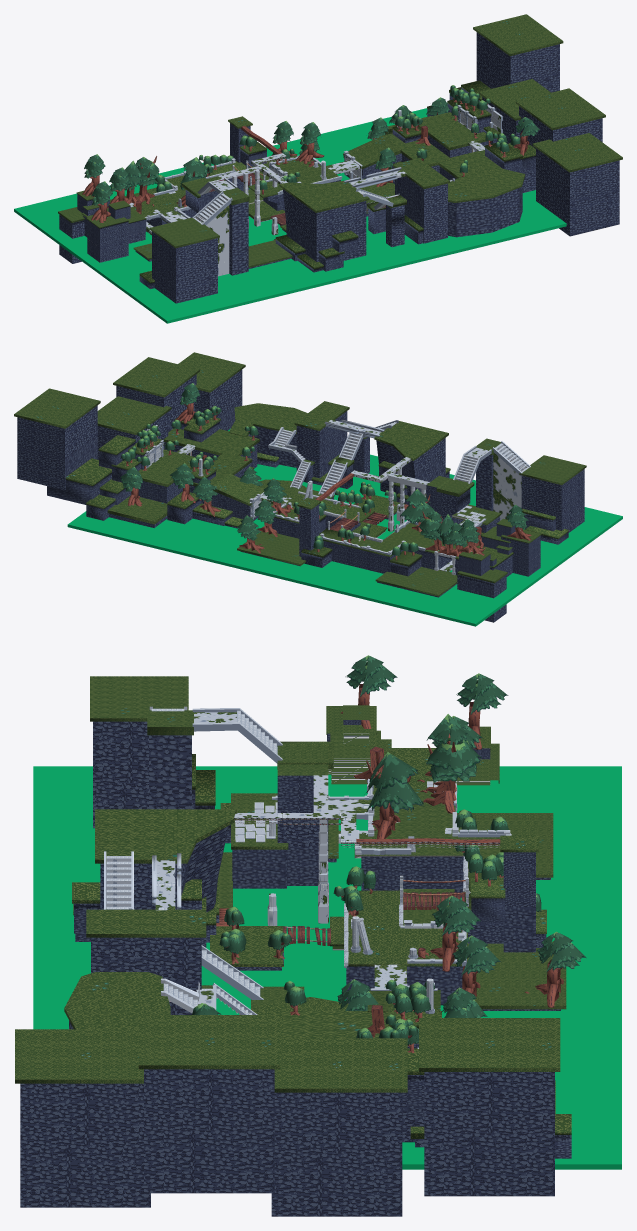
File: Ermo.fbx
The picture shows the model from 3 angles, top to bottom: view 1: azimuth 30°, elevation 25°; view 2: azimuth 150°, elevation 25°; view 3: azimuth 270°, elevation 25°; orthographic projection. The views are drawn at different scales.
Visible parts, largest first — view 1: Cenario, Cenario.037, Cenario.035, Cenario.023, Cenario.024, Cenario.001, Cenario.019, Cenario.036, Cenario.021, Cenario.015, Cenario.034, Cenario.047 (+25 smaller); view 2: Cenario, Cenario.035, Cenario.001, Cenario.024, Cenario.015, Cenario.023, Cenario.036, Cenario.037, Cenario.021, Cenario.034, Cenario.006, Cenario.019 (+41 smaller); view 3: Cenario, Cenario.036, Cenario.035, Cenario.034, Cenario.037, Cenario.023, Cenario.024, Cenario.021, Cenario.001, Cenario.010, Cenario.006, Cenario.018 (+32 smaller).
Part boxes in pixels (x1,y1,x2,y2): Cenario: (14, 108, 566, 323); Cenario.037: (532, 133, 622, 236); Cenario.035: (473, 14, 563, 92); Cenario.023: (279, 180, 369, 261); Cenario.024: (149, 217, 219, 303); Cenario.001: (58, 187, 196, 263); Cenario.019: (448, 168, 525, 237); Cenario.036: (515, 88, 605, 148); Cenario.021: (393, 158, 449, 243); Cenario.015: (418, 112, 535, 192); Cenario.034: (479, 79, 550, 143); Cenario.047: (220, 188, 249, 275); Cenario: (67, 429, 622, 626); Cenario.035: (14, 388, 100, 490); Cenario.001: (390, 518, 541, 622); Cenario.024: (519, 455, 586, 532); Cenario.015: (138, 428, 259, 503); Cenario.023: (374, 421, 448, 496); Cenario.036: (113, 357, 199, 431); Cenario.037: (178, 352, 245, 430); Cenario.021: (294, 401, 349, 478); Cenario.034: (97, 396, 171, 459); Cenario.006: (319, 523, 420, 573); Cenario.019: (234, 403, 307, 467); Cenario: (33, 766, 621, 1169); Cenario.036: (138, 1015, 279, 1193); Cenario.035: (419, 1018, 560, 1196); Cenario.034: (271, 1038, 407, 1216); Cenario.037: (15, 1029, 150, 1207); Cenario.023: (95, 809, 236, 912); Cenario.024: (90, 676, 188, 828); Cenario.021: (86, 909, 206, 1014); Cenario.001: (326, 705, 499, 834); Cenario.010: (346, 890, 467, 1005); Cenario.006: (354, 835, 512, 943); Cenario.018: (399, 889, 566, 1010).
Bounding box in the file's own units: 18717 × 10312 × 3984.
